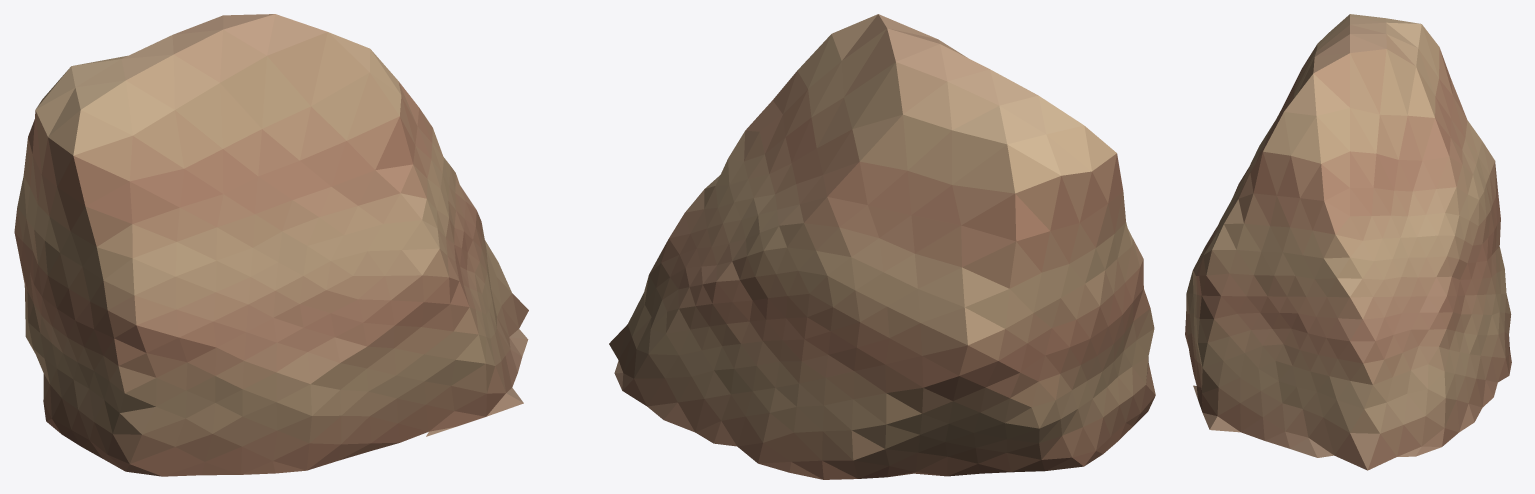
The model's file is rock_1.glb.
3 renders of one model, left to right at view 1: azimuth 30°, elevation 25°; view 2: azimuth 150°, elevation 25°; view 3: azimuth 270°, elevation 25°, orthographic. The views are drawn at different scales.
Visible parts, largest first — view 1: rock; view 2: rock; view 3: rock.
Part boxes in pixels (x1,y1,x2,y2): rock: [14, 14, 528, 476]; rock: [609, 14, 1155, 479]; rock: [1185, 14, 1511, 470].
Bounding box in the file's own units: 3 × 2.09 × 2.06.
